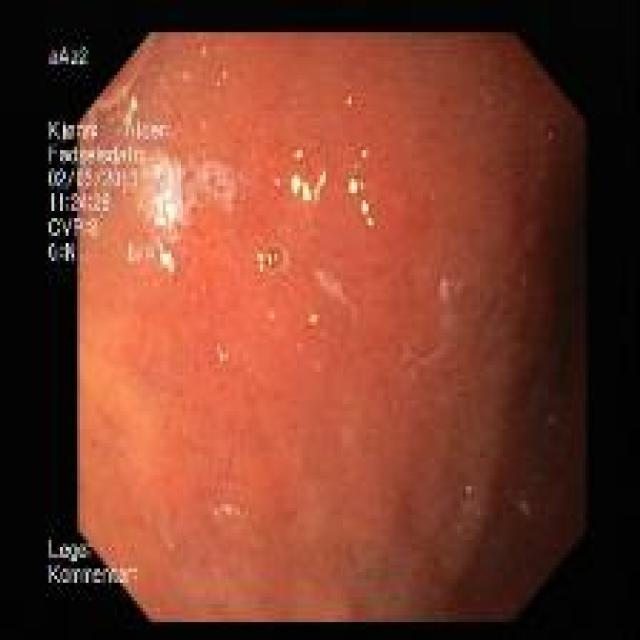ulcerative-colitis: (76, 31, 585, 622)
